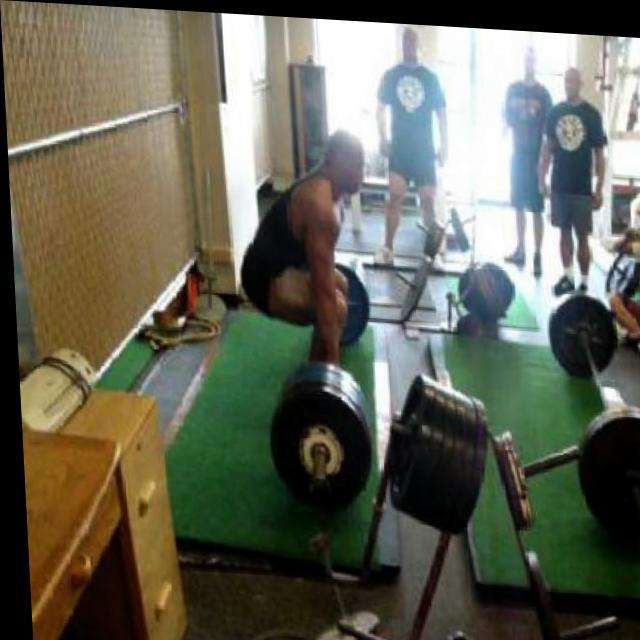barbell: (261, 376, 371, 522)
